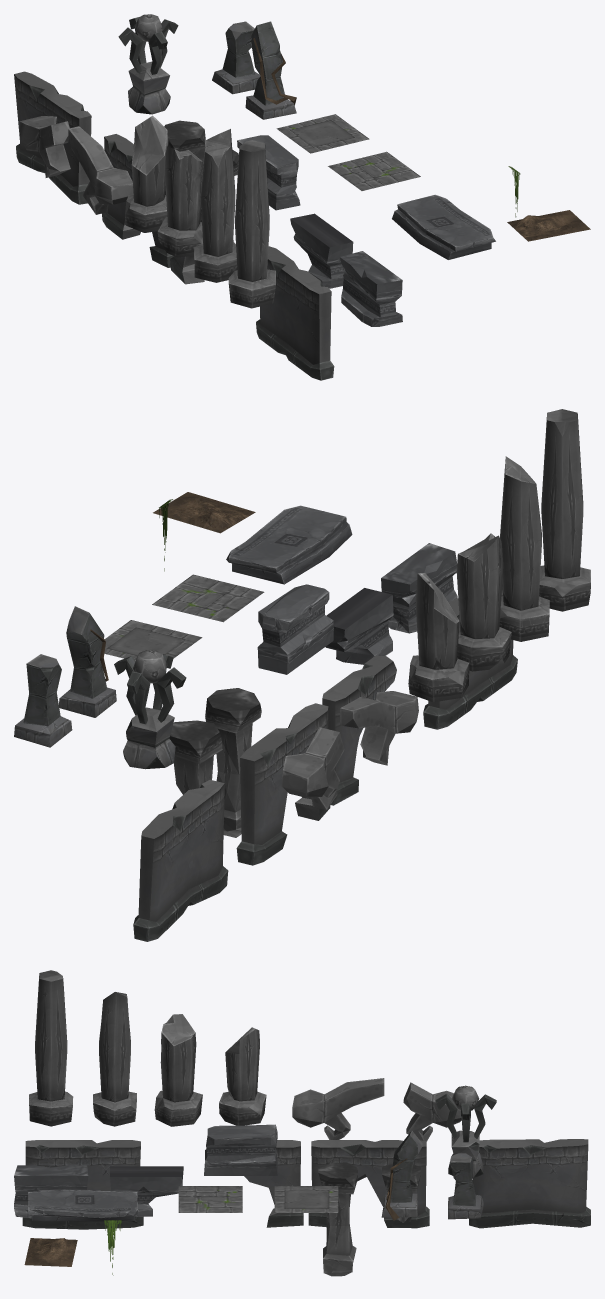
File: ruins_01.FBX
3 views of the same model, one above another, from view 1: azimuth 30°, elevation 25°; view 2: azimuth 150°, elevation 25°; view 3: azimuth 270°, elevation 25° (orthographic). The views are drawn at different scales.
Visible parts, largest first — view 1: ruins_wall_002, ruins_column_001, ruins_column_002, ruins_wall_001, ruins_step_001, ruins_column_004, ruins_column_003, ruins_monument_001, ruins_wall_small_002, ruins_entrance_001, ruins_column_top_001, ruins_wall_small_003 (+9 smaller); view 2: ruins_wall_001, ruins_column_001, ruins_wall_003, ruins_column_002, ruins_step_001, ruins_column_004, ruins_monument_001, ruins_column_003, ruins_wall_small_001, ruins_wall_pillar_001, ruins_entrance_001, ruins_wall_small_003 (+10 smaller); view 3: ruins_wall_001, ruins_column_001, ruins_wall_002, ruins_wall_003, ruins_column_002, ruins_column_004, ruins_wall_small_001, ruins_step_001, ruins_column_003, ruins_column_top_001, ruins_wall_pillar_001, ruins_monument_001 (+10 smaller).
Boxes of the visible parts, left/top/right/bottom form: ruins_wall_002: left=256, top=246, right=334, bottom=380; ruins_column_001: left=228, top=140, right=275, bottom=308; ruins_column_002: left=194, top=129, right=237, bottom=282; ruins_wall_001: left=14, top=71, right=91, bottom=204; ruins_step_001: left=392, top=194, right=495, bottom=259; ruins_column_004: left=157, top=146, right=203, bottom=257; ruins_column_003: left=125, top=115, right=168, bottom=232; ruins_monument_001: left=118, top=14, right=178, bottom=114; ruins_wall_small_002: left=340, top=251, right=402, bottom=326; ruins_entrance_001: left=245, top=21, right=296, bottom=119; ruins_column_top_001: left=68, top=126, right=133, bottom=214; ruins_wall_small_003: left=290, top=213, right=353, bottom=288; ruins_wall_001: left=133, top=779, right=228, bottom=941; ruins_column_001: left=539, top=409, right=590, bottom=611; ruins_wall_003: left=236, top=703, right=330, bottom=865; ruins_column_002: left=499, top=456, right=549, bottom=641; ruins_step_001: left=226, top=505, right=352, bottom=584; ruins_column_004: left=456, top=533, right=511, bottom=671; ruins_monument_001: left=114, top=650, right=186, bottom=769; ruins_column_003: left=408, top=573, right=469, bottom=702; ruins_wall_small_001: left=257, top=584, right=333, bottom=674; ruins_wall_pillar_001: left=205, top=688, right=261, bottom=837; ruins_entrance_001: left=59, top=606, right=116, bottom=717; ruins_wall_small_003: left=325, top=588, right=393, bottom=664; ruins_wall_001: left=469, top=1139, right=590, bottom=1228; ruins_column_001: left=29, top=970, right=73, bottom=1126; ruins_wall_002: left=22, top=1140, right=143, bottom=1229; ruins_wall_003: left=308, top=1140, right=429, bottom=1228; ruins_column_002: left=93, top=992, right=136, bottom=1126; ruins_column_004: left=154, top=1014, right=202, bottom=1126; ruins_wall_small_001: left=204, top=1124, right=277, bottom=1175; ruins_step_001: left=28, top=1190, right=137, bottom=1221; ruins_column_003: left=219, top=1027, right=266, bottom=1125; ruins_column_top_001: left=292, top=1078, right=384, bottom=1139; ruins_wall_pillar_001: left=318, top=1162, right=358, bottom=1276; ruins_monument_001: left=435, top=1085, right=496, bottom=1178.
Size of the model in its own units: 1187 by 844 by 1808.
